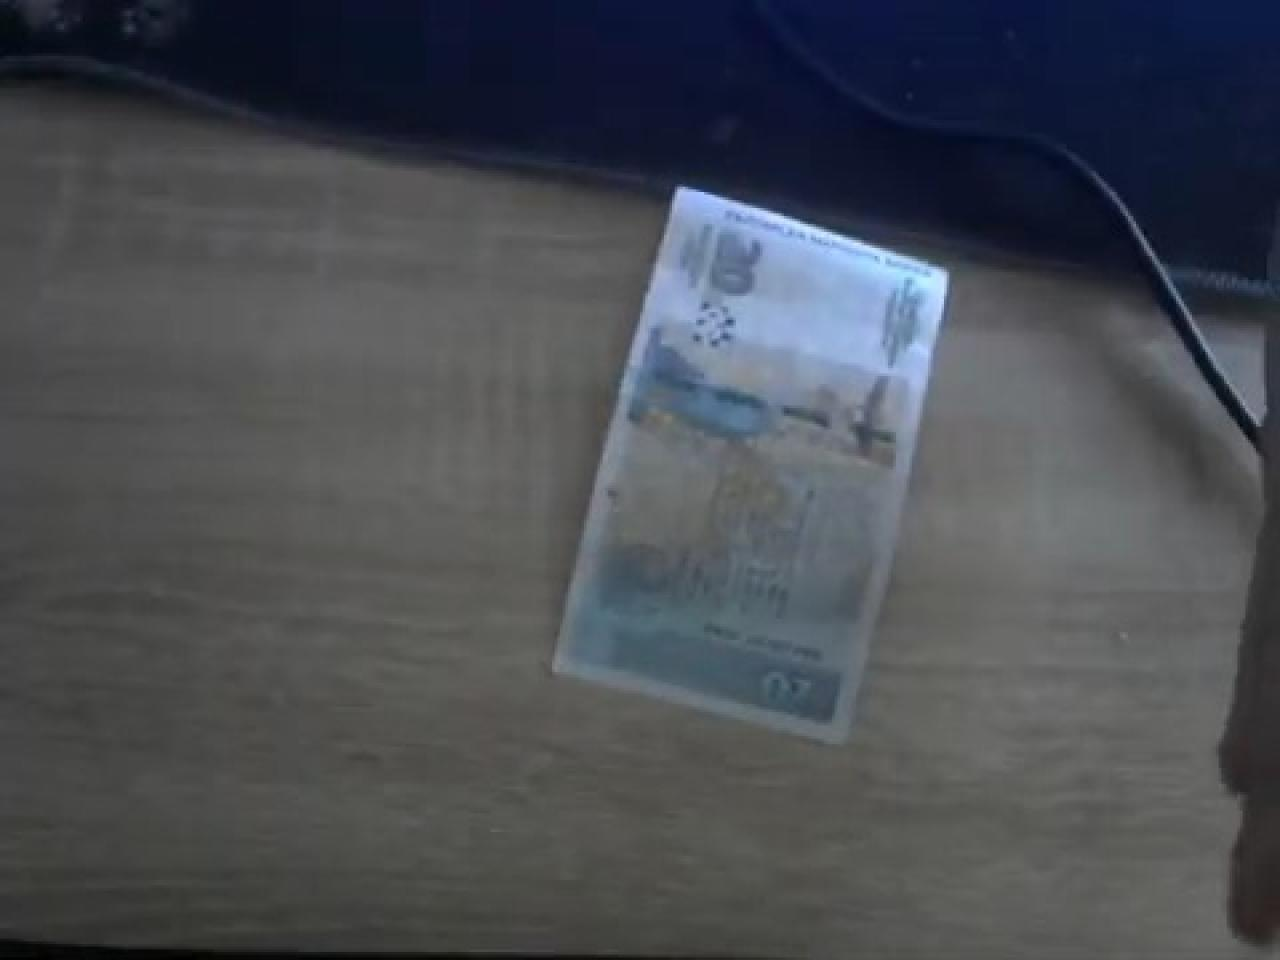20leva: (547, 189, 952, 747)
